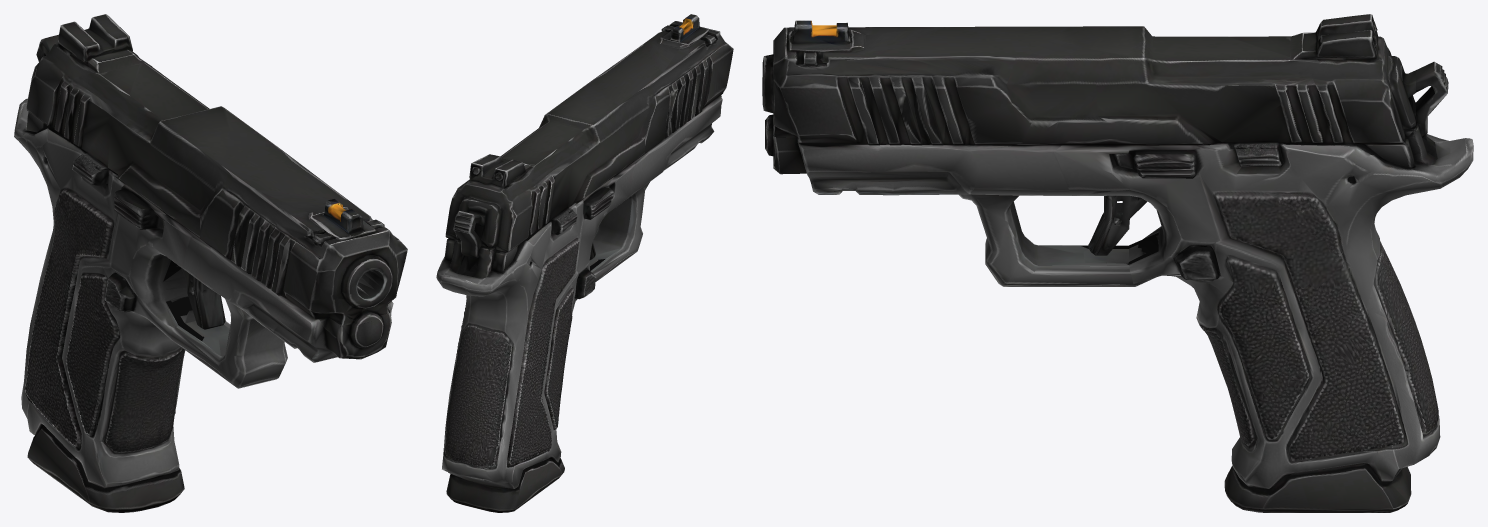
File: wpn_pi_viper.glb
3 renders of one model, left to right at view 1: azimuth 30°, elevation 25°; view 2: azimuth 150°, elevation 25°; view 3: azimuth 270°, elevation 25°, orthographic. The views are drawn at different scales.
Parts seen in each view (by area): view 1: body, bolt, trigger; view 2: body, bolt; view 3: body, bolt, trigger.
Part boxes in pixels (left/top/right/bottom): body: left=14, top=34, right=393, bottom=512; bolt: left=26, top=14, right=407, bottom=324; trigger: left=171, top=265, right=229, bottom=337; body: left=436, top=95, right=722, bottom=512; bolt: left=445, top=14, right=733, bottom=252; body: left=765, top=61, right=1473, bottom=512; bolt: left=762, top=14, right=1415, bottom=148; trigger: left=1083, top=195, right=1158, bottom=263.
Size of the model in its own units: 0.0399 by 0.153 by 0.2101.
1 material, 1 textured.
